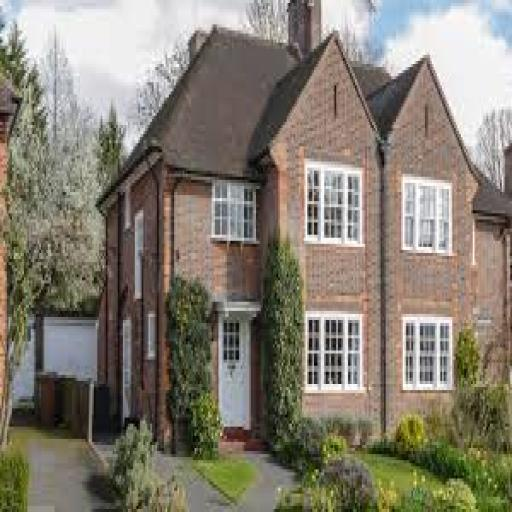casa: (102, 8, 496, 456)
